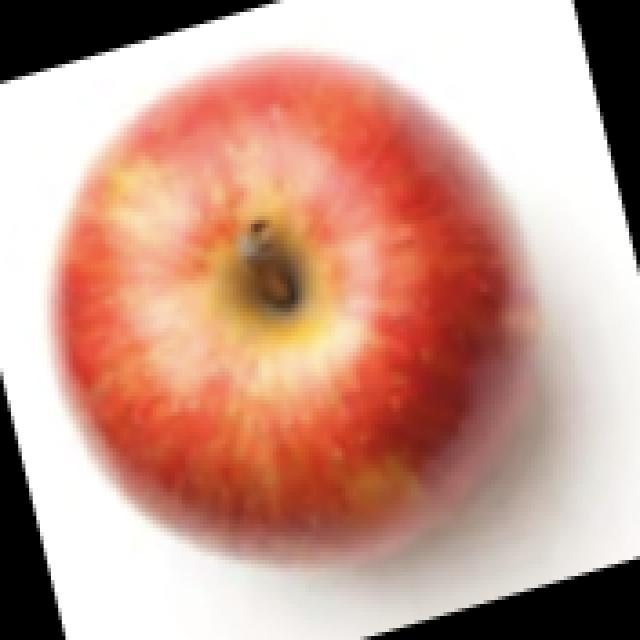Fresh Apple: (74, 65, 528, 553)
